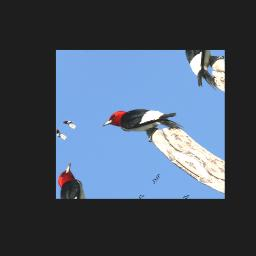Woodpecker: (100, 83, 190, 165)
